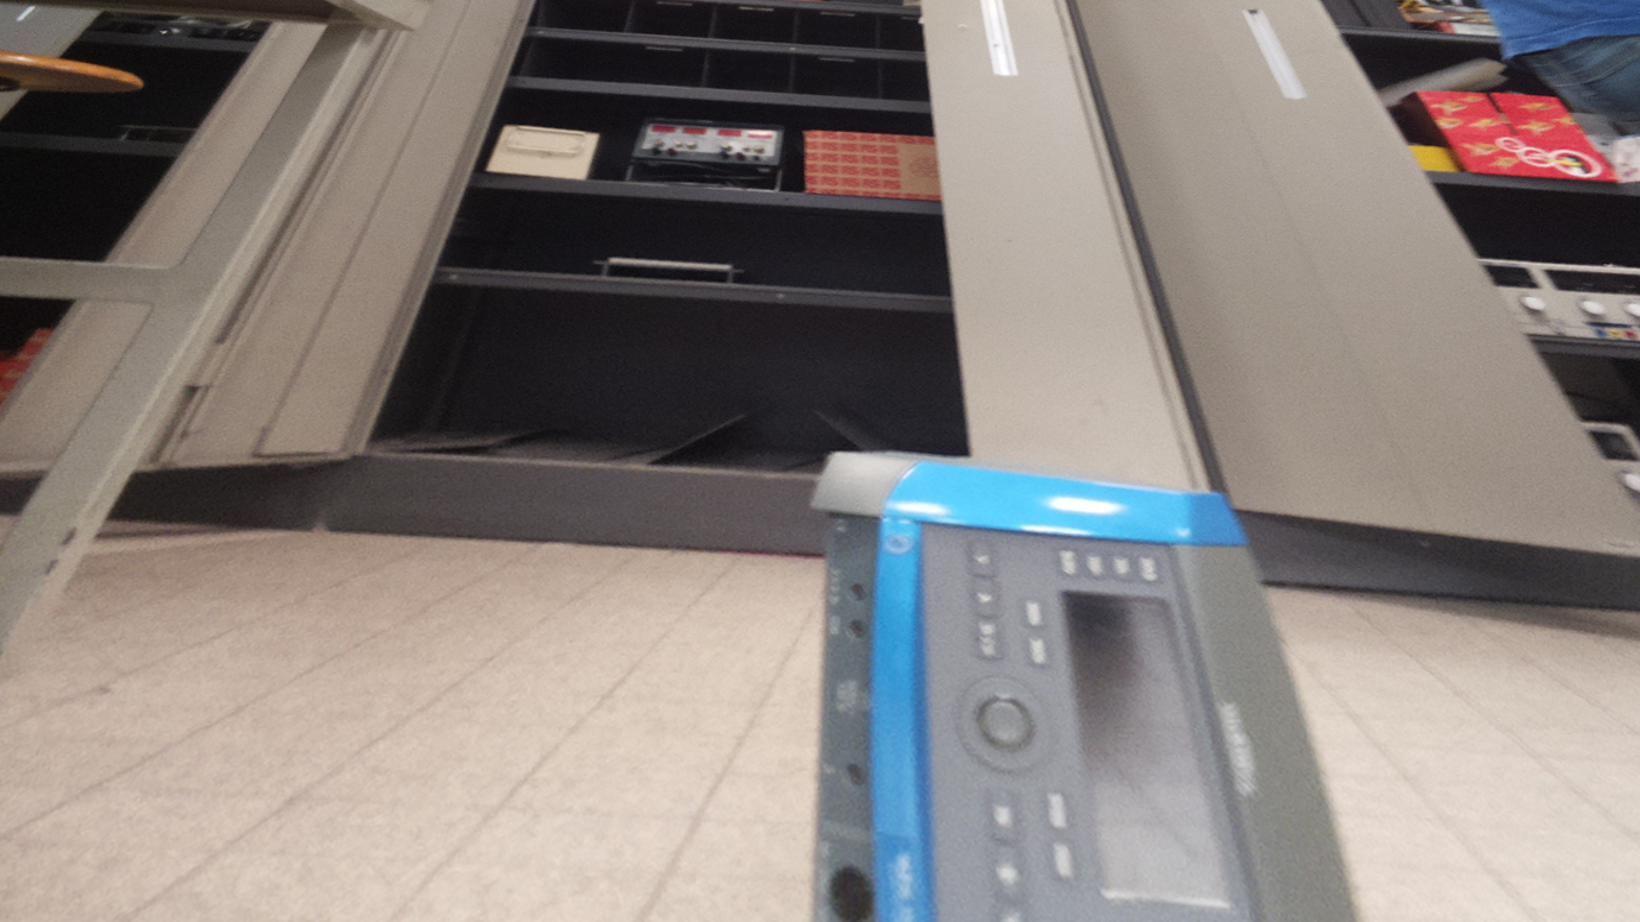big: (806, 442, 1363, 922)
